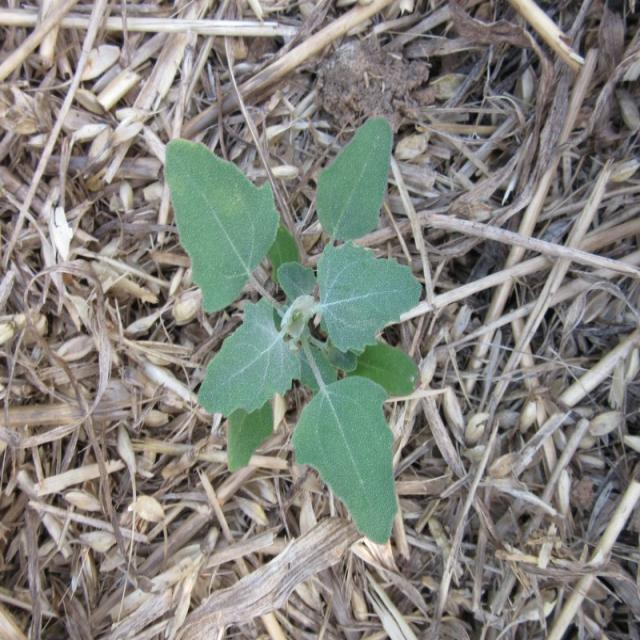ca: (161, 123, 416, 548)
